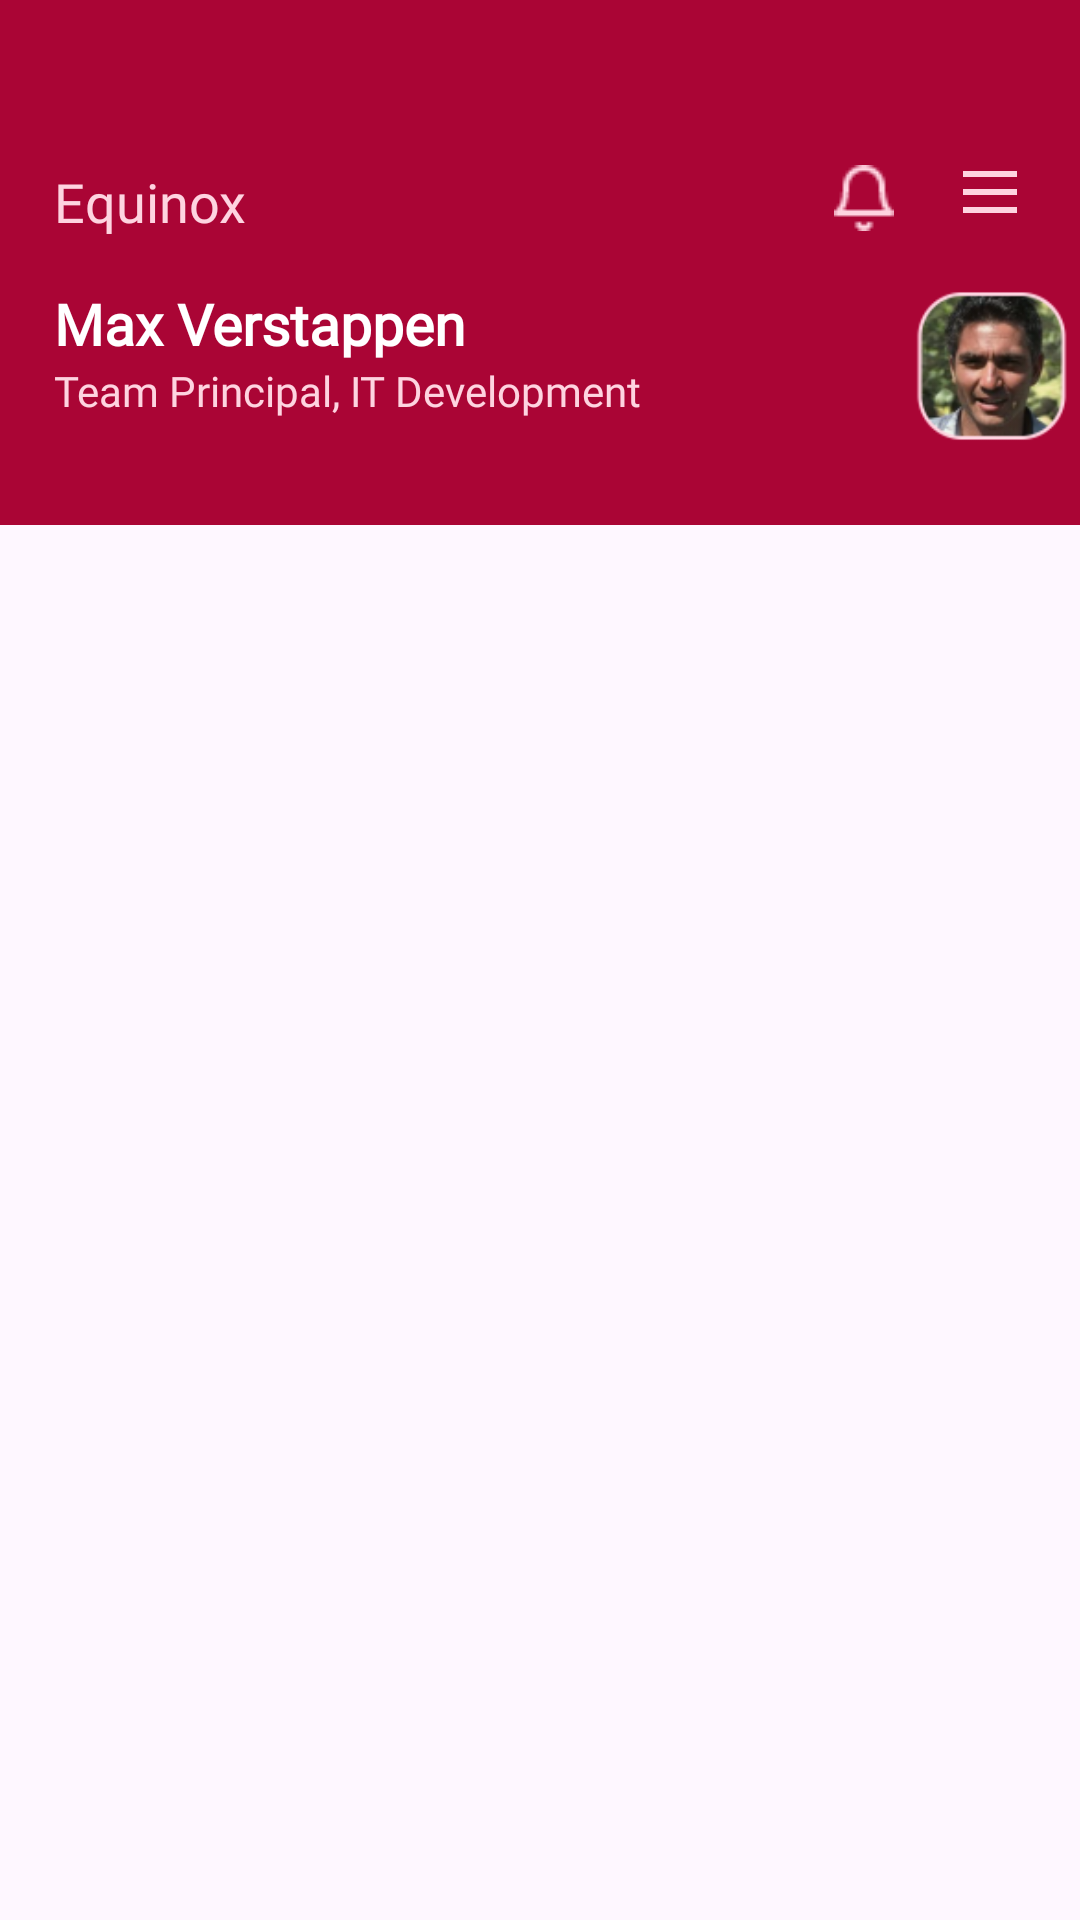

Icons on this 1080 × 1920 Android screen, each with its box as (x1, y1, x2, y2):
bell: (834, 165, 894, 231)
